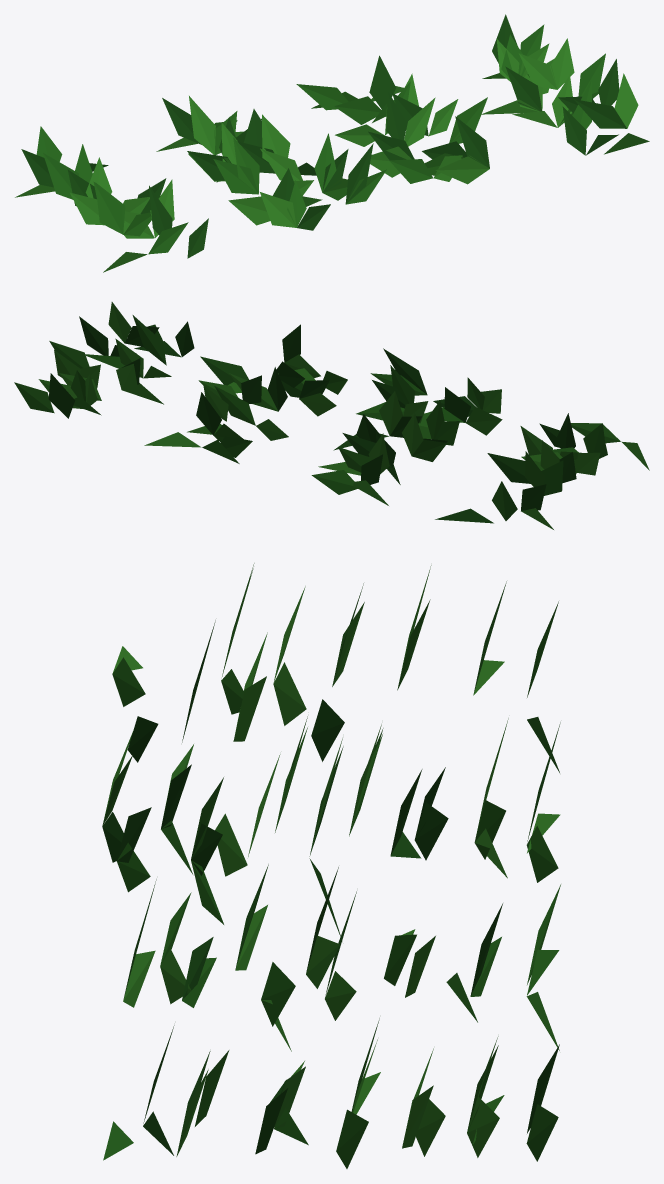
3 views of the same model, one above another, from view 1: azimuth 30°, elevation 25°; view 2: azimuth 150°, elevation 25°; view 3: azimuth 270°, elevation 25° (orthographic). The views are drawn at different scales.
Parts seen in each view (by area): view 1: r9c0_l00; view 2: r9c0_l00; view 3: r9c0_l00.
Boxes of the visible parts, x1,y1,x2,y2 form: r9c0_l00: [15, 14, 649, 272]; r9c0_l00: [14, 302, 649, 529]; r9c0_l00: [102, 563, 560, 1168].
Bounding box in the file's own units: 1.7 × 0.2246 × 0.6219.
